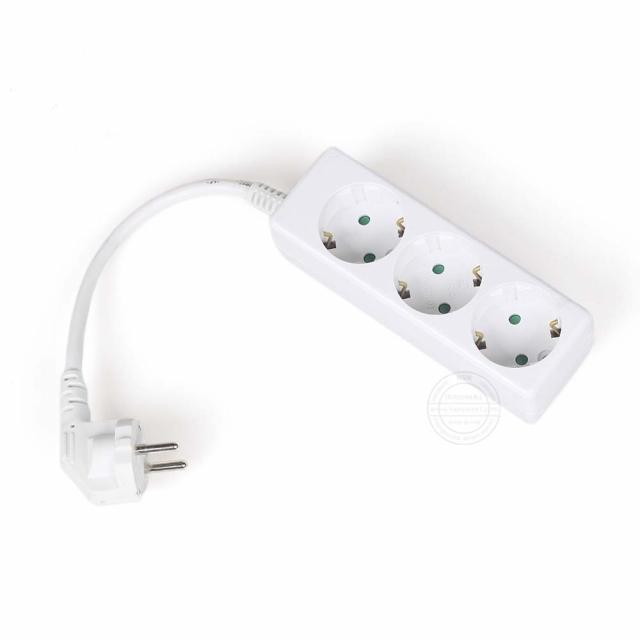typeb: (249, 126, 602, 452)
